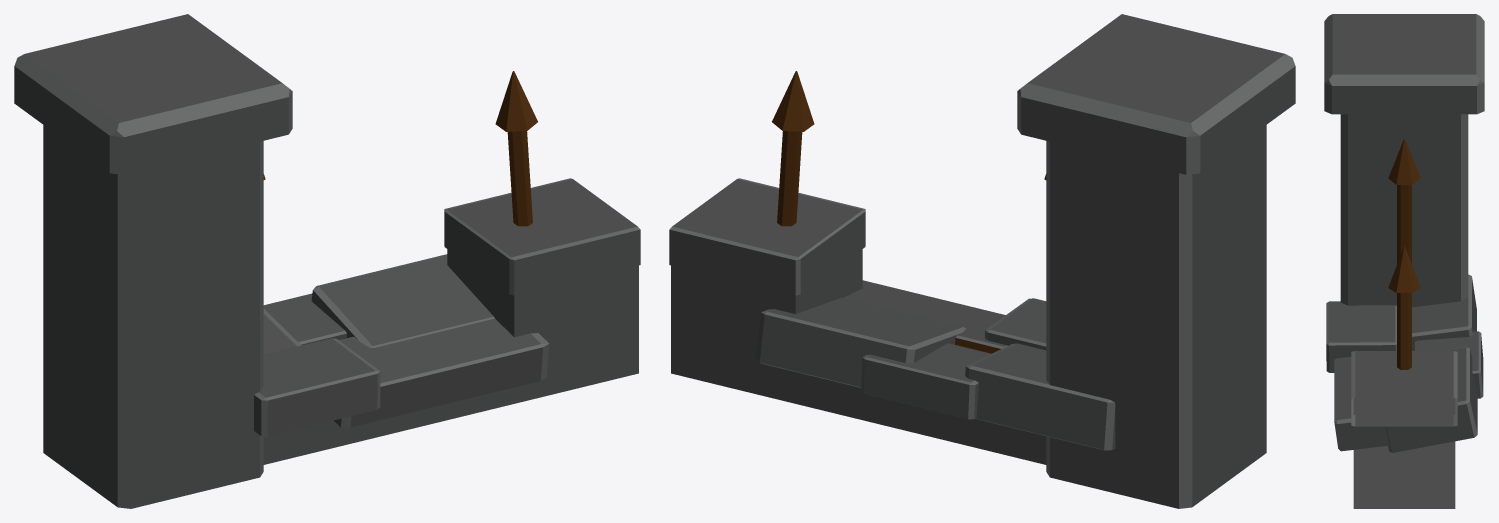
File: Fence_02_Graveyard.fbx
3 views of the same model, side by side, from view 1: azimuth 30°, elevation 25°; view 2: azimuth 150°, elevation 25°; view 3: azimuth 270°, elevation 25° (orthographic). The views are drawn at different scales.
Parts seen in each view (by area): view 1: Fence_02Graveyard; view 2: Fence_02Graveyard; view 3: Fence_02Graveyard.
Boxes of the visible parts, x1=… form: Fence_02Graveyard: x1=14, y1=14, x2=640, y2=508; Fence_02Graveyard: x1=669, y1=14, x2=1295, y2=508; Fence_02Graveyard: x1=1324, y1=14, x2=1484, y2=508.
Bounding box in the file's own units: 481 × 333 × 162.
